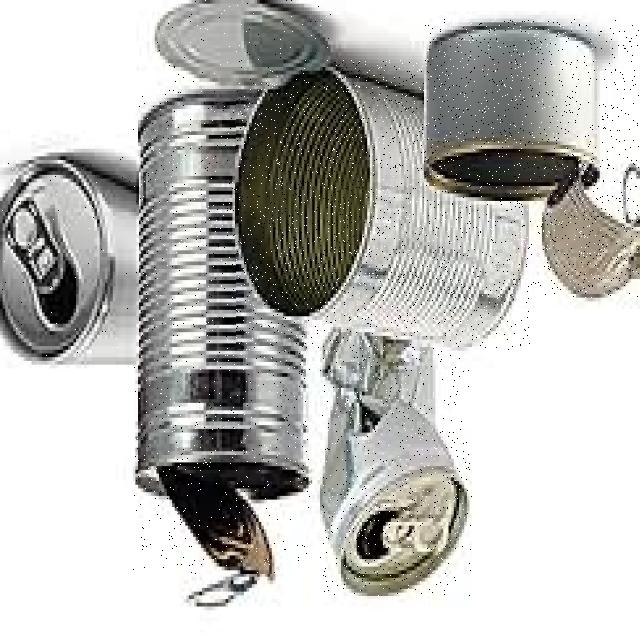metal: (236, 60, 532, 349), (134, 90, 311, 573), (425, 19, 639, 297), (320, 328, 472, 596), (0, 156, 139, 365), (158, 0, 333, 82)
